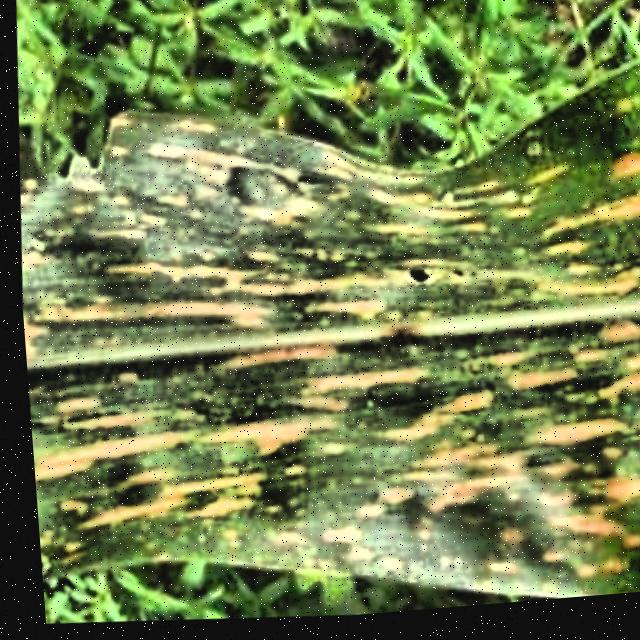gray_spot: (22, 55, 640, 602)
